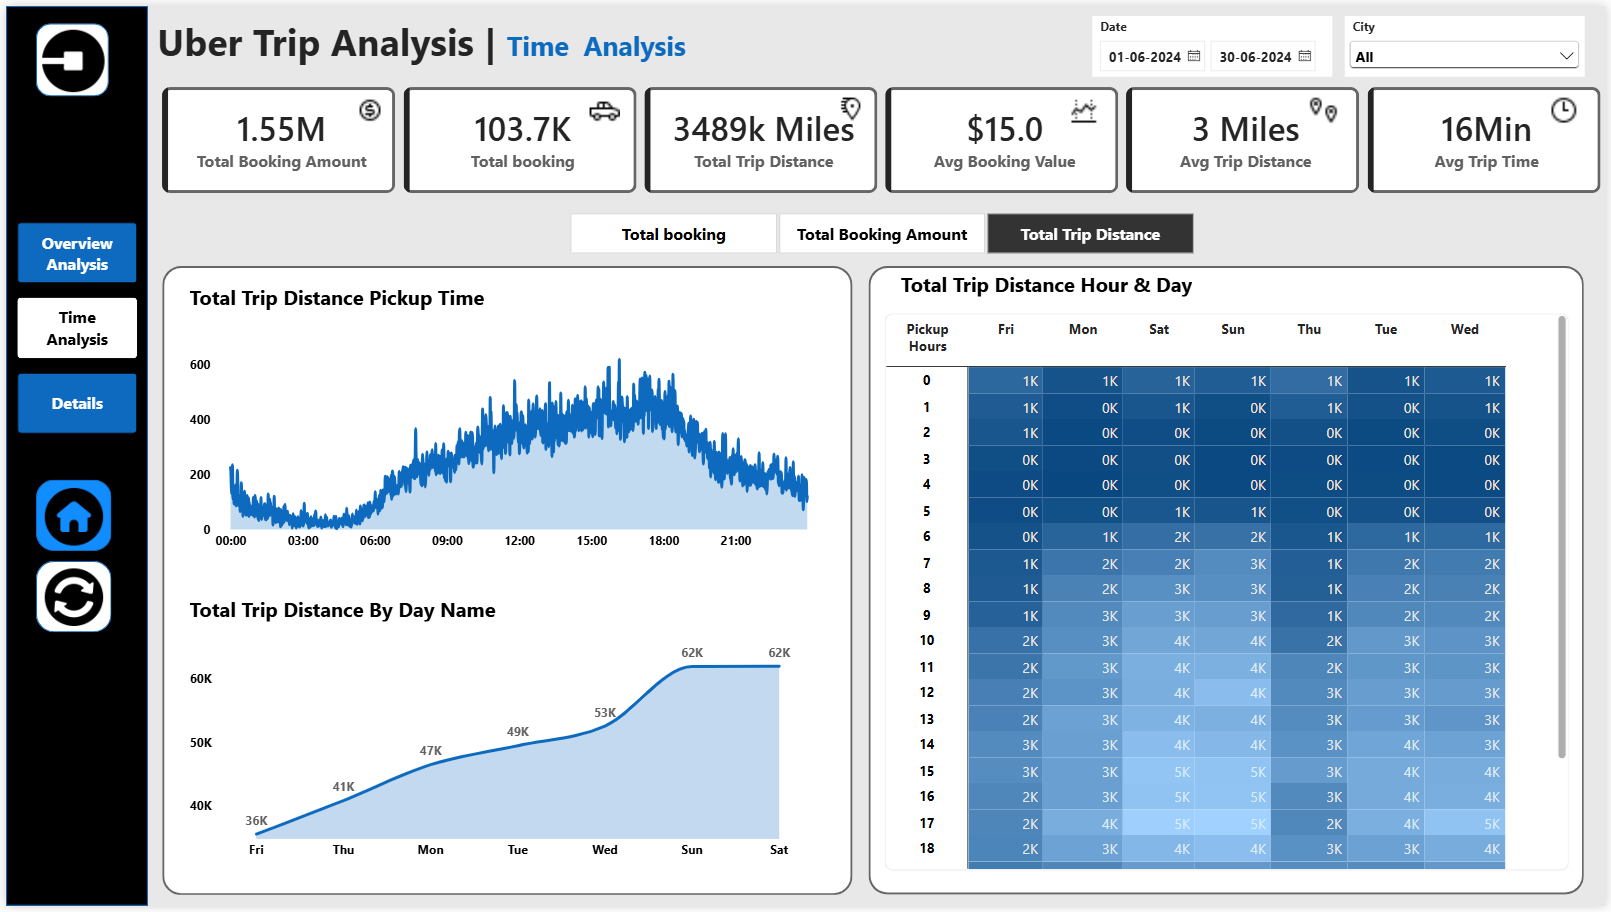

What the dashboard file says about the page in this screenshot:
{"tool":"powerbi","page":{"name":"Time Analysis","canvas":[1600,900],"ordinal":1},"visuals":[{"type":"shape","box":[0,0,142,899.7],"z":0},{"type":"shape","box":[30.5,17.4,72.7,72.7],"z":0,"group":"g1"},{"type":"textbox","box":[151.4,10,601.4,65.7],"z":1000},{"type":"image","box":[36.3,23.2,62,62.5],"z":1000,"group":"g1"},{"type":"cardVisual","fields":{"Data":["Trip details.Total Booking Amount","Trip details.Total booking","Trip details.Total Trip Distance","Trip details.Avg Booking Time","Trip details.Avg Trip Distance","Trip details.Avg Trip Time"]},"box":[150.8,76.1,1449.5,116.4],"z":2000},{"type":"image","box":[579.2,89.6,40.3,30],"z":3000},{"type":"shape","box":[155.8,259.6,690.2,629.1],"z":4000},{"type":"image","box":[1539.1,89.6,40,30],"z":5000},{"type":"image","box":[828.5,89.6,35,26],"z":6000},{"type":"image","box":[1297.3,89.6,40,30],"z":7000},{"type":"image","box":[344.8,89.6,40,30],"z":8000},{"type":"image","box":[1058.4,89.6,40,30],"z":9000},{"type":"slicer","fields":{"Values":["Dynamic Measure.Dynamic Measure"]},"box":[543.6,204.6,662.8,44.8],"z":10000},{"type":"slicer","fields":{"Values":["Calender Table.Date"]},"box":[1085.8,10,239.7,61.1],"z":11000},{"type":"slicer","fields":{"Values":["Dim_Location.City"]},"box":[1339.2,10,239.7,61.1],"z":12000},{"type":"areaChart","title":"Total Booking by Pickup Time (HH:MM:SS)","fields":{"Category":["Trip details.Pickup Time (HH:MM:SS)"],"Y":["Trip details.Total Trip Distance Measure"]},"box":[168,306.9,665.8,256.5],"z":13000},{"type":"cardVisual","fields":{"Data":["Trip details.Title For Pickup Time"]},"box":[168,276.4,491.7,30.5],"z":14000},{"type":"lineChart","fields":{"Category":["Calender Table.Day Name"],"Y":["Trip details.Total Trip Distance Measure"]},"box":[168,616.9,656.6,255],"z":15000},{"type":"cardVisual","fields":{"Data":["Trip details.Title For By Day Name"]},"box":[167.8,587.3,491.7,30.5],"z":16000},{"type":"shape","box":[862.7,259.6,715.5,628.4],"z":17000},{"type":"pivotTable","fields":{"Columns":["Calender Table.Day Name"],"Rows":["Trip details.Pickup Hours"],"Values":["Trip details.Total Trip Distance Measure"]},"box":[878.5,307.1,683.8,557.2],"z":18000},{"type":"cardVisual","fields":{"Data":["Trip details.Title For Hour & Day"]},"box":[878.5,262.8,491.7,30.5],"z":19000},{"type":"pageNavigator","box":[10.8,216.5,120.6,211.8],"z":20000},{"type":"group","id":"g1","title":"Group 1","box":[30.5,17.4,72.7,72.7],"z":21000},{"type":"shape","box":[30.5,473.8,75.6,71.2],"z":21001},{"type":"image","box":[39.2,478.2,58.1,64],"z":21002},{"type":"shape","box":[30.5,555.2,75.6,71.2],"z":21003},{"type":"image","box":[39.2,559.6,58.1,62.5],"z":21004}]}

Visuals, with their boxes on the page's 1600x900 design canvas (x1, y1, x2, y2). These are canvas units, not pixel positions in the 1611x912 screenshot, which may show the page scaled, cropped or inside an application window:
shape: detection(0, 0, 142, 900)
shape: detection(30, 17, 103, 90)
textbox: detection(151, 10, 753, 76)
image: detection(36, 23, 98, 86)
cardVisual - Trip details.Total Booking Amount x Trip details.Total booking: detection(151, 76, 1600, 192)
image: detection(579, 90, 620, 120)
shape: detection(156, 260, 846, 889)
image: detection(1539, 90, 1579, 120)
image: detection(828, 90, 864, 116)
image: detection(1297, 90, 1337, 120)
image: detection(345, 90, 385, 120)
image: detection(1058, 90, 1098, 120)
slicer - Dynamic Measure.Dynamic Measure: detection(544, 205, 1206, 249)
slicer - Calender Table.Date: detection(1086, 10, 1326, 71)
slicer - Dim_Location.City: detection(1339, 10, 1579, 71)
"Total Booking by Pickup Time (HH:MM:SS)" areaChart: detection(168, 307, 834, 563)
cardVisual - Trip details.Title For Pickup Time: detection(168, 276, 660, 307)
lineChart - Calender Table.Day Name x Trip details.Total Trip Distance Measure: detection(168, 617, 825, 872)
cardVisual - Trip details.Title For By Day Name: detection(168, 587, 660, 618)
shape: detection(863, 260, 1578, 888)
pivotTable - Calender Table.Day Name x Trip details.Pickup Hours: detection(878, 307, 1562, 864)
cardVisual - Trip details.Title For Hour & Day: detection(878, 263, 1370, 293)
pageNavigator: detection(11, 216, 131, 428)
"Group 1" group: detection(30, 17, 103, 90)
shape: detection(30, 474, 106, 545)
image: detection(39, 478, 97, 542)
shape: detection(30, 555, 106, 626)
image: detection(39, 560, 97, 622)
